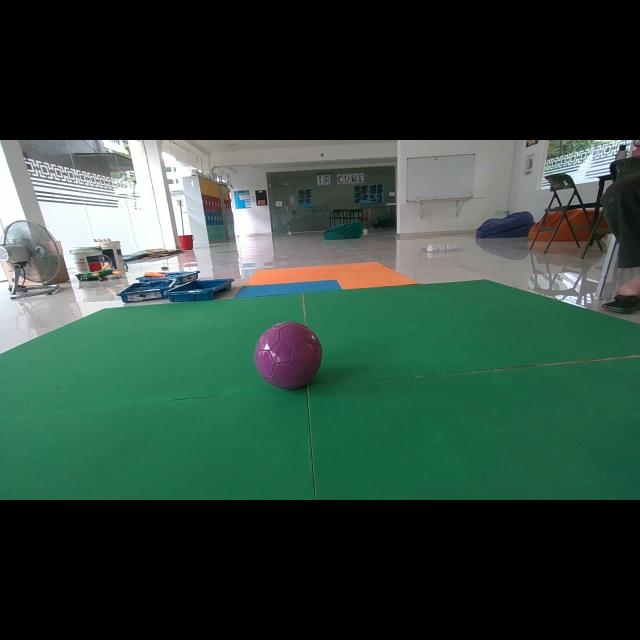P: (254, 321, 322, 389)
